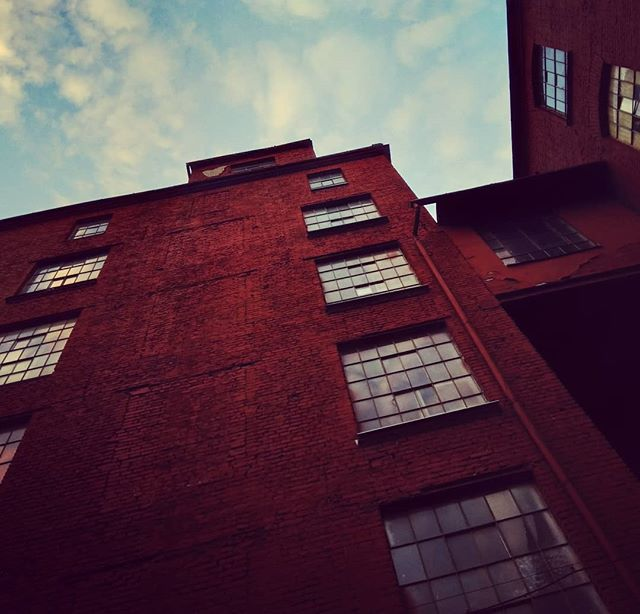building: (14, 16, 640, 614)
sky: (1, 1, 491, 169)
